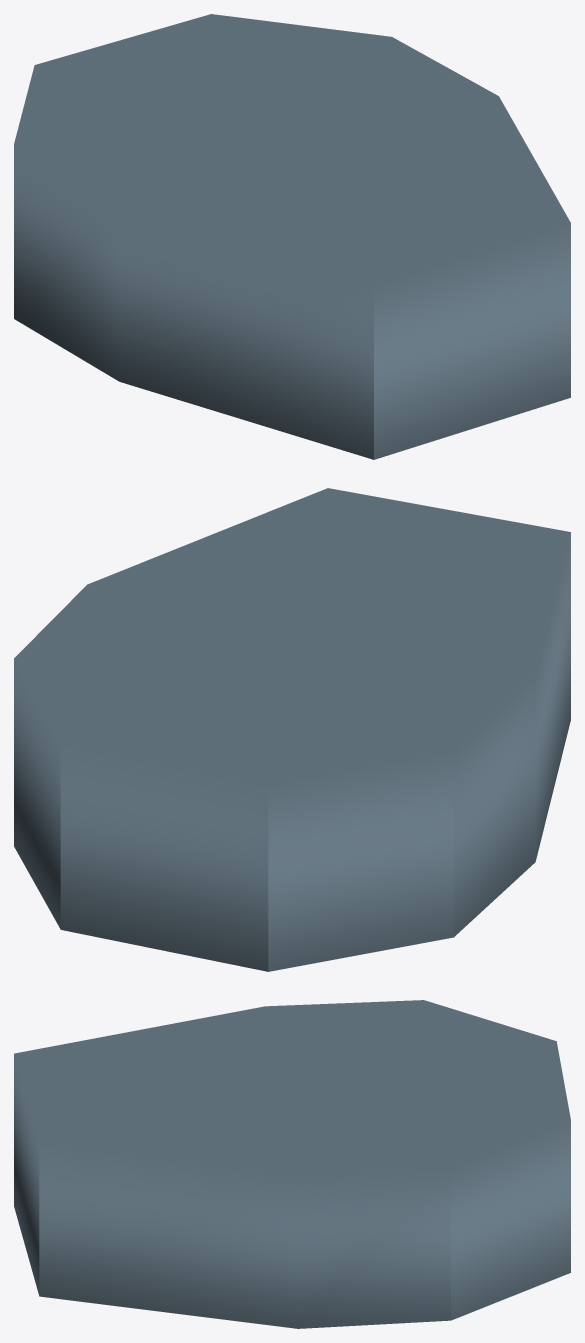
File: footprint wolfnew.fbx
3 views of the same model, one above another, from view 1: azimuth 30°, elevation 25°; view 2: azimuth 150°, elevation 25°; view 3: azimuth 270°, elevation 25° (orthographic). The views are drawn at different scales.
Visible parts, largest first — view 1: pPlane1; view 2: pPlane1; view 3: pPlane1.
Part boxes in pixels (x1,y1,x2,y2): pPlane1: (14, 14, 570, 459); pPlane1: (14, 488, 570, 971); pPlane1: (14, 1000, 570, 1328).
Bounding box in the file's own units: 11.81 × 4.78 × 15.78.
